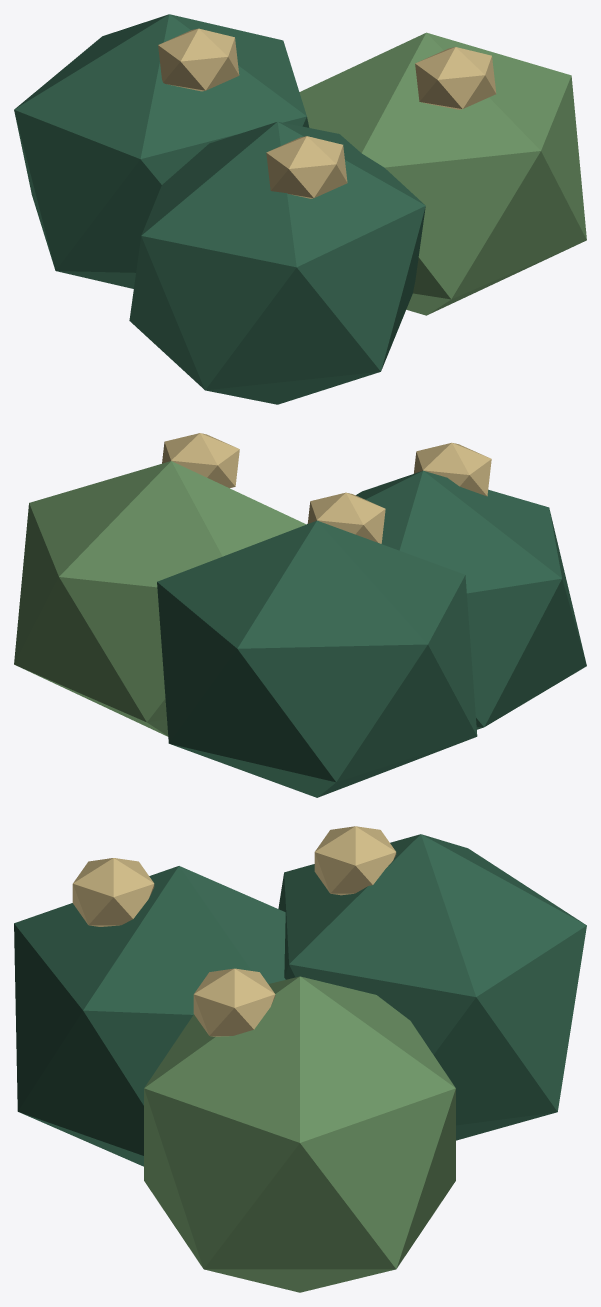
File: PirateCove_FlowerBush_Simple.glb
The picture shows the model from 3 angles, top to bottom: view 1: azimuth 30°, elevation 25°; view 2: azimuth 150°, elevation 25°; view 3: azimuth 270°, elevation 25°; orthographic projection. The views are drawn at different scales.
Parts seen in each view (by area): view 1: PirateCove_FlowerBush_Simple; view 2: PirateCove_FlowerBush_Simple; view 3: PirateCove_FlowerBush_Simple.
Part boxes in pixels (x1,y1,x2,y2): PirateCove_FlowerBush_Simple: [14, 14, 586, 404]; PirateCove_FlowerBush_Simple: [14, 433, 586, 797]; PirateCove_FlowerBush_Simple: [14, 826, 586, 1292].
Size of the model in its own units: 1.44 by 0.9 by 1.31.
